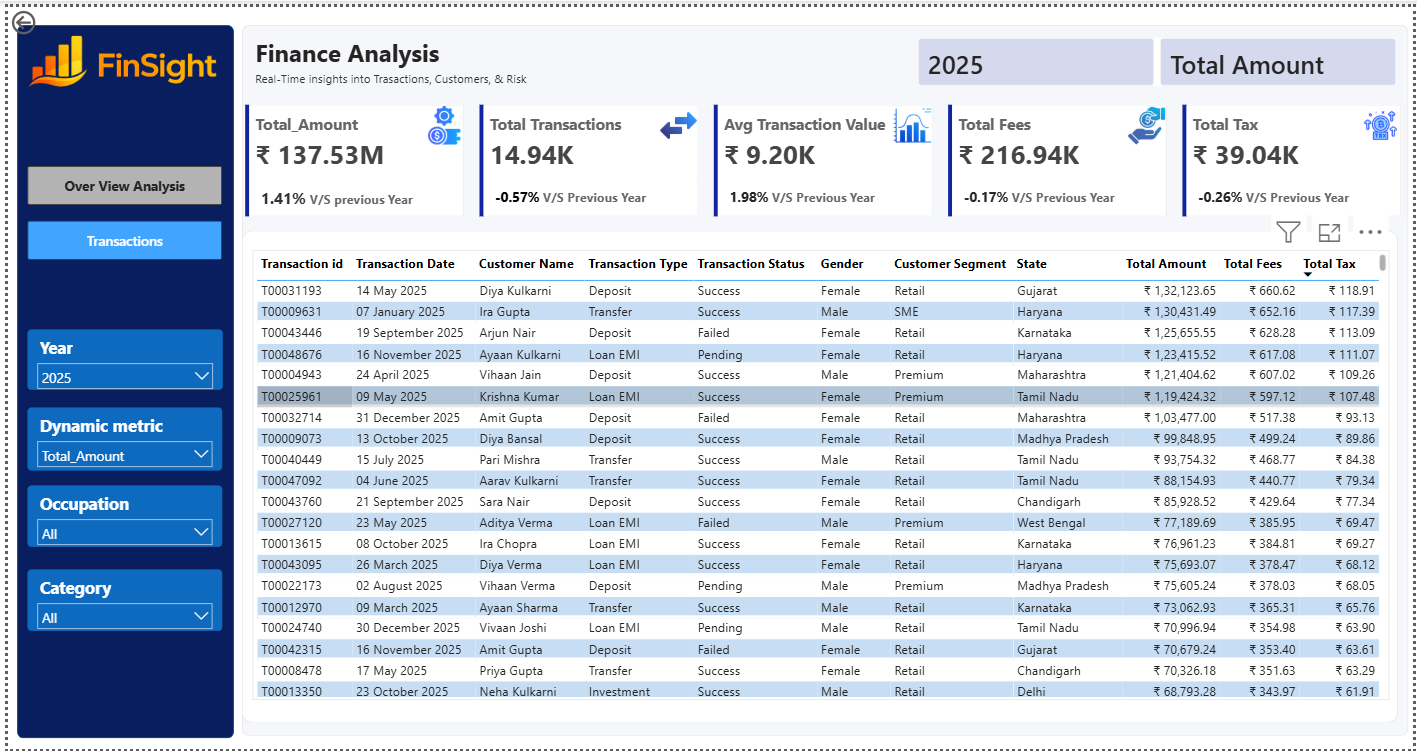

The dashboard page shown, as its layout file describes it:
{"tool":"powerbi","page":{"name":"Transactions","canvas":[1800,950],"ordinal":1},"visuals":[{"type":"shape","box":[299.1,23.5,1493.4,910.1],"z":0},{"type":"shape","box":[11.1,22.2,277.8,913.3],"z":1000},{"type":"image","box":[0,21.4,299.1,98.3],"z":2000},{"type":"cardVisual","fields":{"Data":["finance_transactions.DashBoard Tital"]},"box":[299.6,28.8,401.4,80.7],"z":3000},{"type":"cardVisual","fields":{"Data":["finance_transactions.Total_Amount","finance_transactions.Total Transactions","finance_transactions.Avg Transaction Value","finance_transactions.Total Fees","finance_transactions.Total Tax"]},"box":[298.4,118.9,1492.2,155.7],"z":4000},{"type":"image","box":[533,127,49,49],"z":5000},{"type":"image","box":[833,127,50,50],"z":6000},{"type":"image","box":[1433,127,50,50],"z":7000},{"type":"image","box":[1134,127,50,50],"z":8000},{"type":"image","box":[1732,127,50,50],"z":9000},{"type":"shape","box":[300.2,285.3,1479.9,630.3],"z":10000},{"type":"cardVisual","fields":{"Data":["finance_transactions.Selected Year","finance_transactions.Selected Dynamic Measure"]},"box":[1160,34.6,622.3,71.1],"z":11000},{"type":"tableEx","fields":{"Values":["finance_transactions.transaction_id","finance_transactions.transaction_date","customers.Customer_Name","finance_transactions.transaction_type","finance_transactions.transaction_status","customers.gender","customers.customer_segment","customers.state","finance_transactions.Total_Amount","finance_transactions.Total Fees","finance_transactions.Total Tax"]},"box":[313,310.9,1456.5,577.1],"z":12000},{"type":"actionButton","box":[0,0,100,40],"z":13000},{"type":"slicer","fields":{"Values":["Calendar Table.Year"]},"box":[25.1,412,250,77.3],"z":14000},{"type":"slicer","fields":{"Values":["Dynamic metric.Dynamic metric"]},"box":[24.8,512.7,249.1,80.9],"z":15000},{"type":"slicer","fields":{"Values":["customers.occupation"]},"box":[24.8,612.8,249.1,78.8],"z":16000},{"type":"slicer","fields":{"Values":["finance_transactions.merchant_category"]},"box":[24.8,719.3,249.1,78.8],"z":17000},{"type":"pageNavigator","box":[25.6,203,250,121.8],"z":18000}]}

Visuals, with their boxes on the page's 1800x950 design canvas (x1, y1, x2, y2). These are canvas units, not pixel positions in the 1417x751 screenshot, which may show the page scaled, cropped or inside an application window:
shape: 299, 24, 1792, 934
shape: 11, 22, 289, 936
image: 0, 21, 299, 120
cardVisual - finance_transactions.DashBoard Tital: 300, 29, 701, 110
cardVisual - finance_transactions.Total_Amount x finance_transactions.Total Transactions: 298, 119, 1791, 275
image: 533, 127, 582, 176
image: 833, 127, 883, 177
image: 1433, 127, 1483, 177
image: 1134, 127, 1184, 177
image: 1732, 127, 1782, 177
shape: 300, 285, 1780, 916
cardVisual - finance_transactions.Selected Year x finance_transactions.Selected Dynamic Measure: 1160, 35, 1782, 106
tableEx - finance_transactions.transaction_id x finance_transactions.transaction_date: 313, 311, 1770, 888
actionButton: 0, 0, 100, 40
slicer - Calendar Table.Year: 25, 412, 275, 489
slicer - Dynamic metric.Dynamic metric: 25, 513, 274, 594
slicer - customers.occupation: 25, 613, 274, 692
slicer - finance_transactions.merchant_category: 25, 719, 274, 798
pageNavigator: 26, 203, 276, 325
